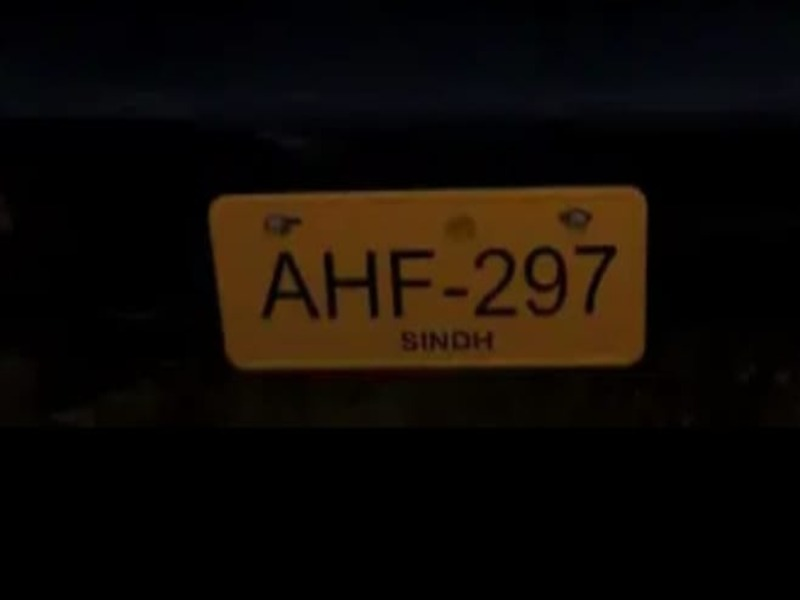License Plate: (206, 182, 649, 375)
